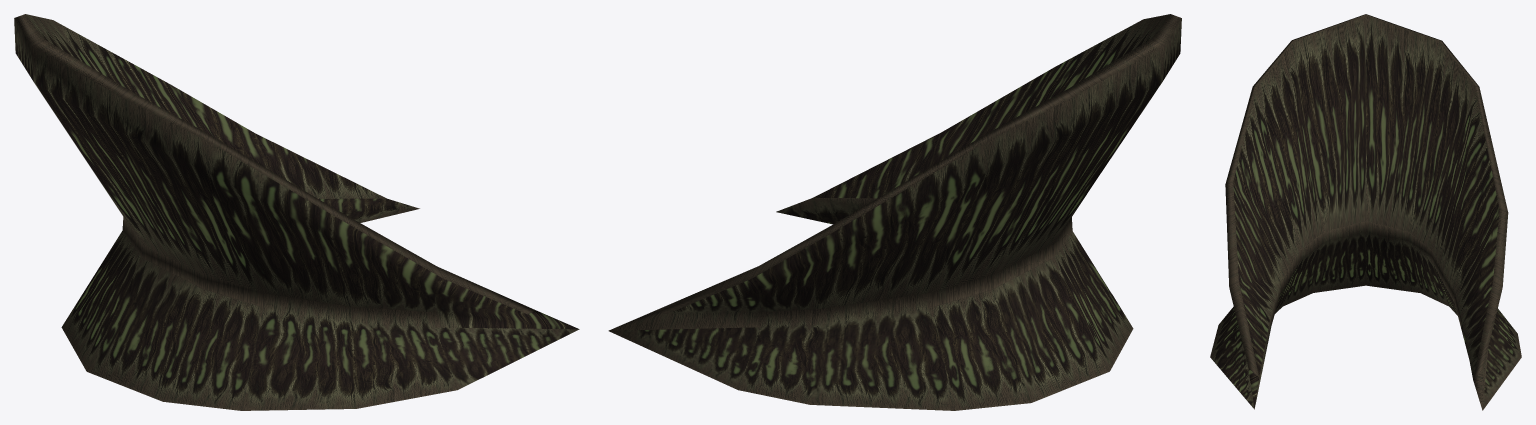
File: mocrwn01.FBX
The picture shows the model from 3 angles, left to right: view 1: azimuth 30°, elevation 25°; view 2: azimuth 150°, elevation 25°; view 3: azimuth 270°, elevation 25°; orthographic projection. The views are drawn at different scales.
Parts seen in each view (by area): view 1: mocrwn01; view 2: mocrwn01; view 3: mocrwn01.
Part boxes in pixels (x1,y1,x2,y2): mocrwn01: [14, 14, 579, 410]; mocrwn01: [608, 14, 1181, 410]; mocrwn01: [1210, 14, 1521, 410].
Bounding box in the file's own units: 8.54 × 5.92 × 7.
